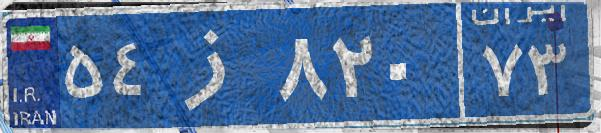0: (385, 28, 445, 110)
2: (330, 28, 385, 110)
3: (525, 38, 570, 115)
4: (110, 28, 158, 105)
5: (57, 26, 110, 107)
7: (475, 38, 525, 113)
8: (273, 28, 330, 110)
ز: (158, 15, 273, 115)
